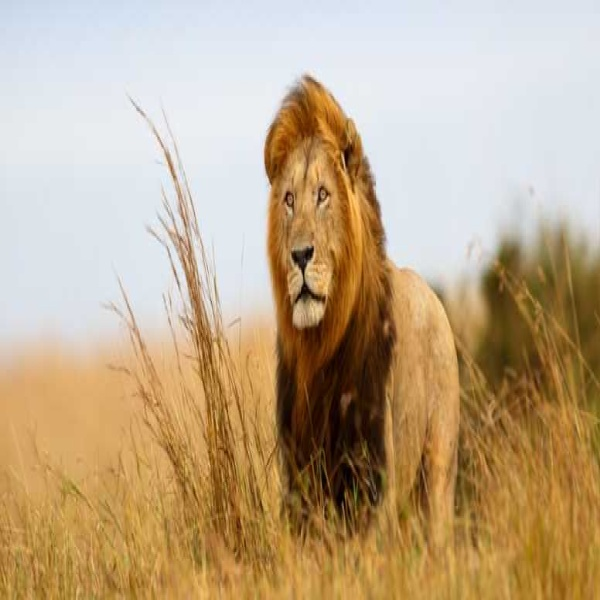Lion: (259, 71, 466, 572)
